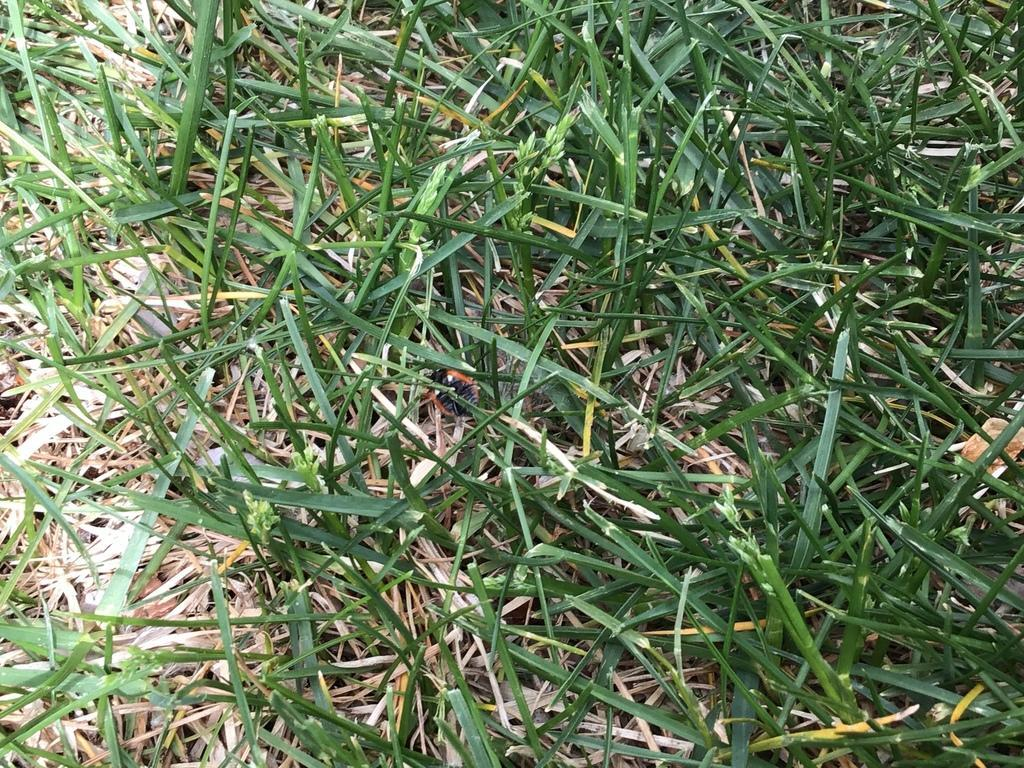ladybug: (426, 367, 483, 420)
